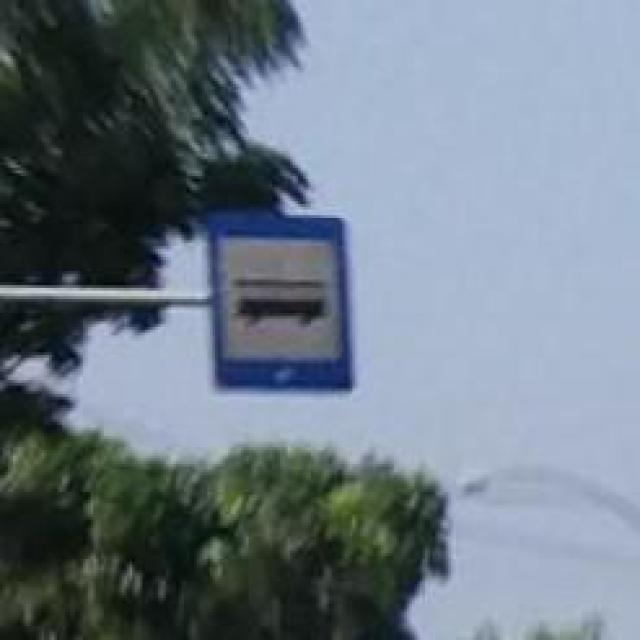traffic sign: (202, 215, 352, 391)
